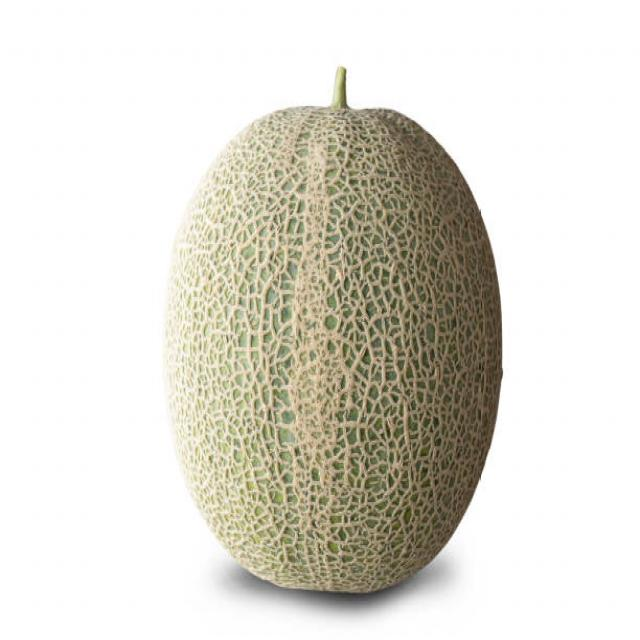melon: (162, 100, 509, 598)
